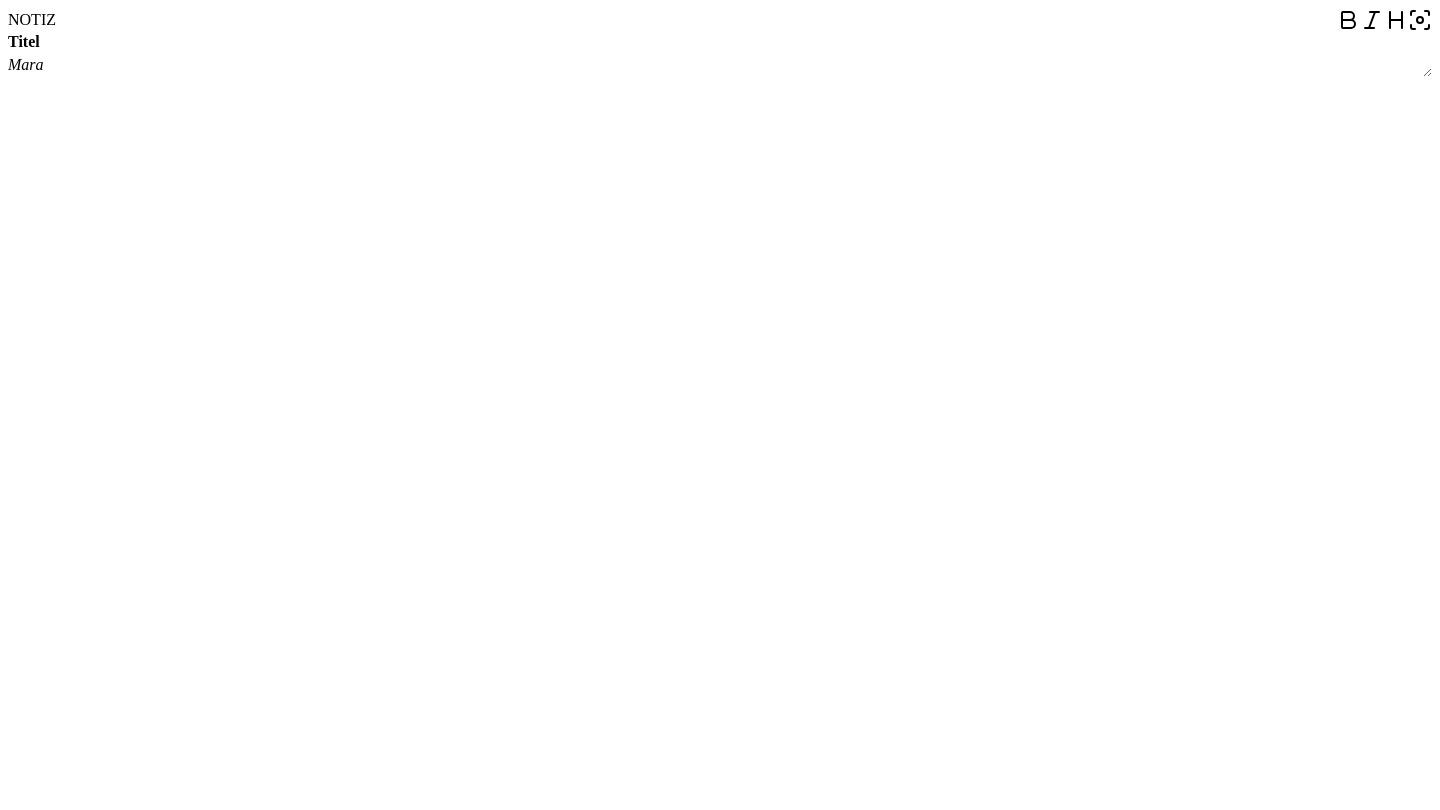
Scenario: NoteEditor › renders persisted formatting in both inline and focus editors
The image size is (1440, 810).
Expected: the heading with class "note-mark--heading-1" reads "Titel", [8, 33, 40, 50]
Expected: the text box with class "note-mark--italic" reads "Mara", [8, 56, 44, 73]
Click the button named "Im Fokus öffnen" at [1420, 20], box [1408, 8, 1432, 32]
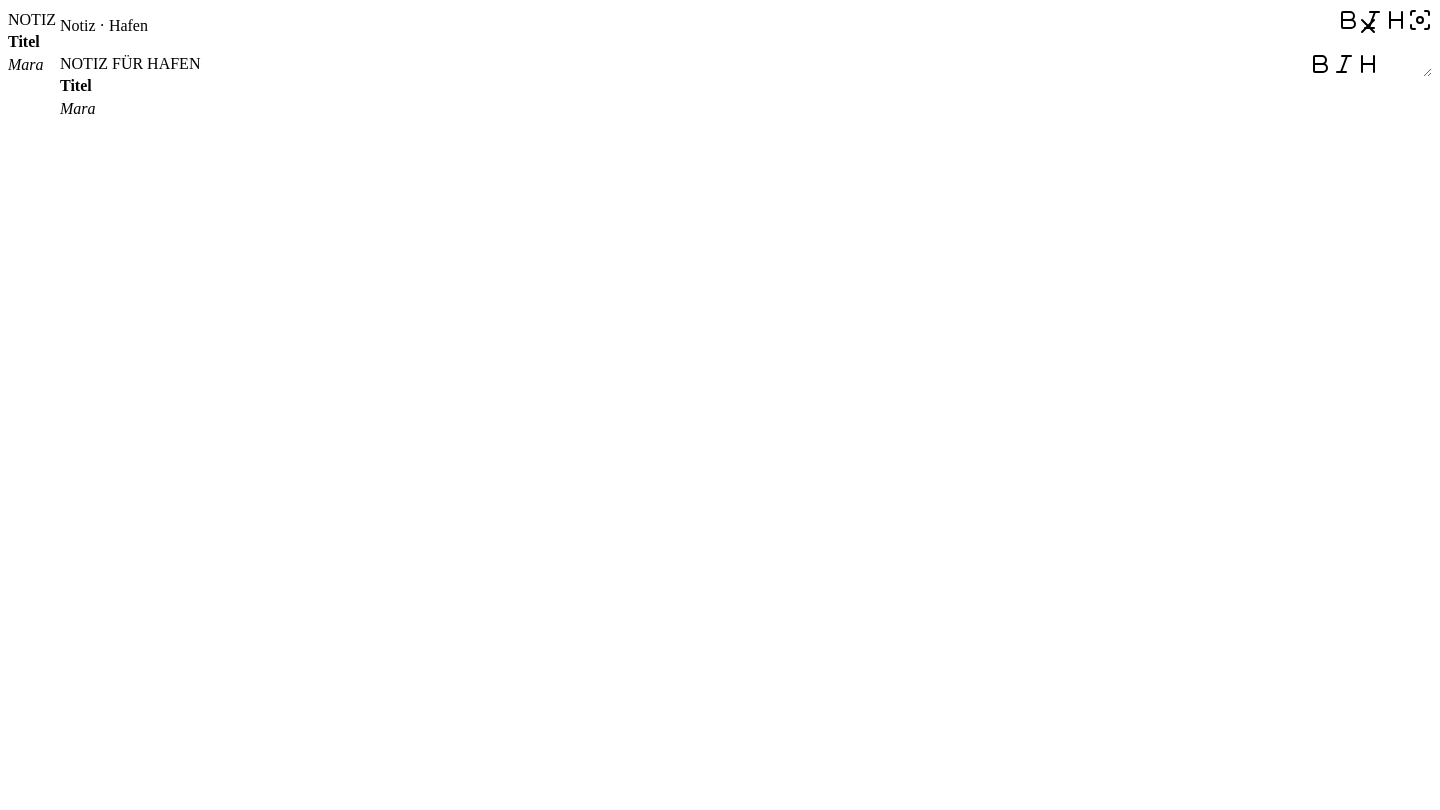
Expected: the heading with class "note-mark--heading-1" reads "Titel", [60, 77, 92, 94]
Expected: the text box with class "note-mark--italic" reads "Mara", [60, 100, 96, 117]
